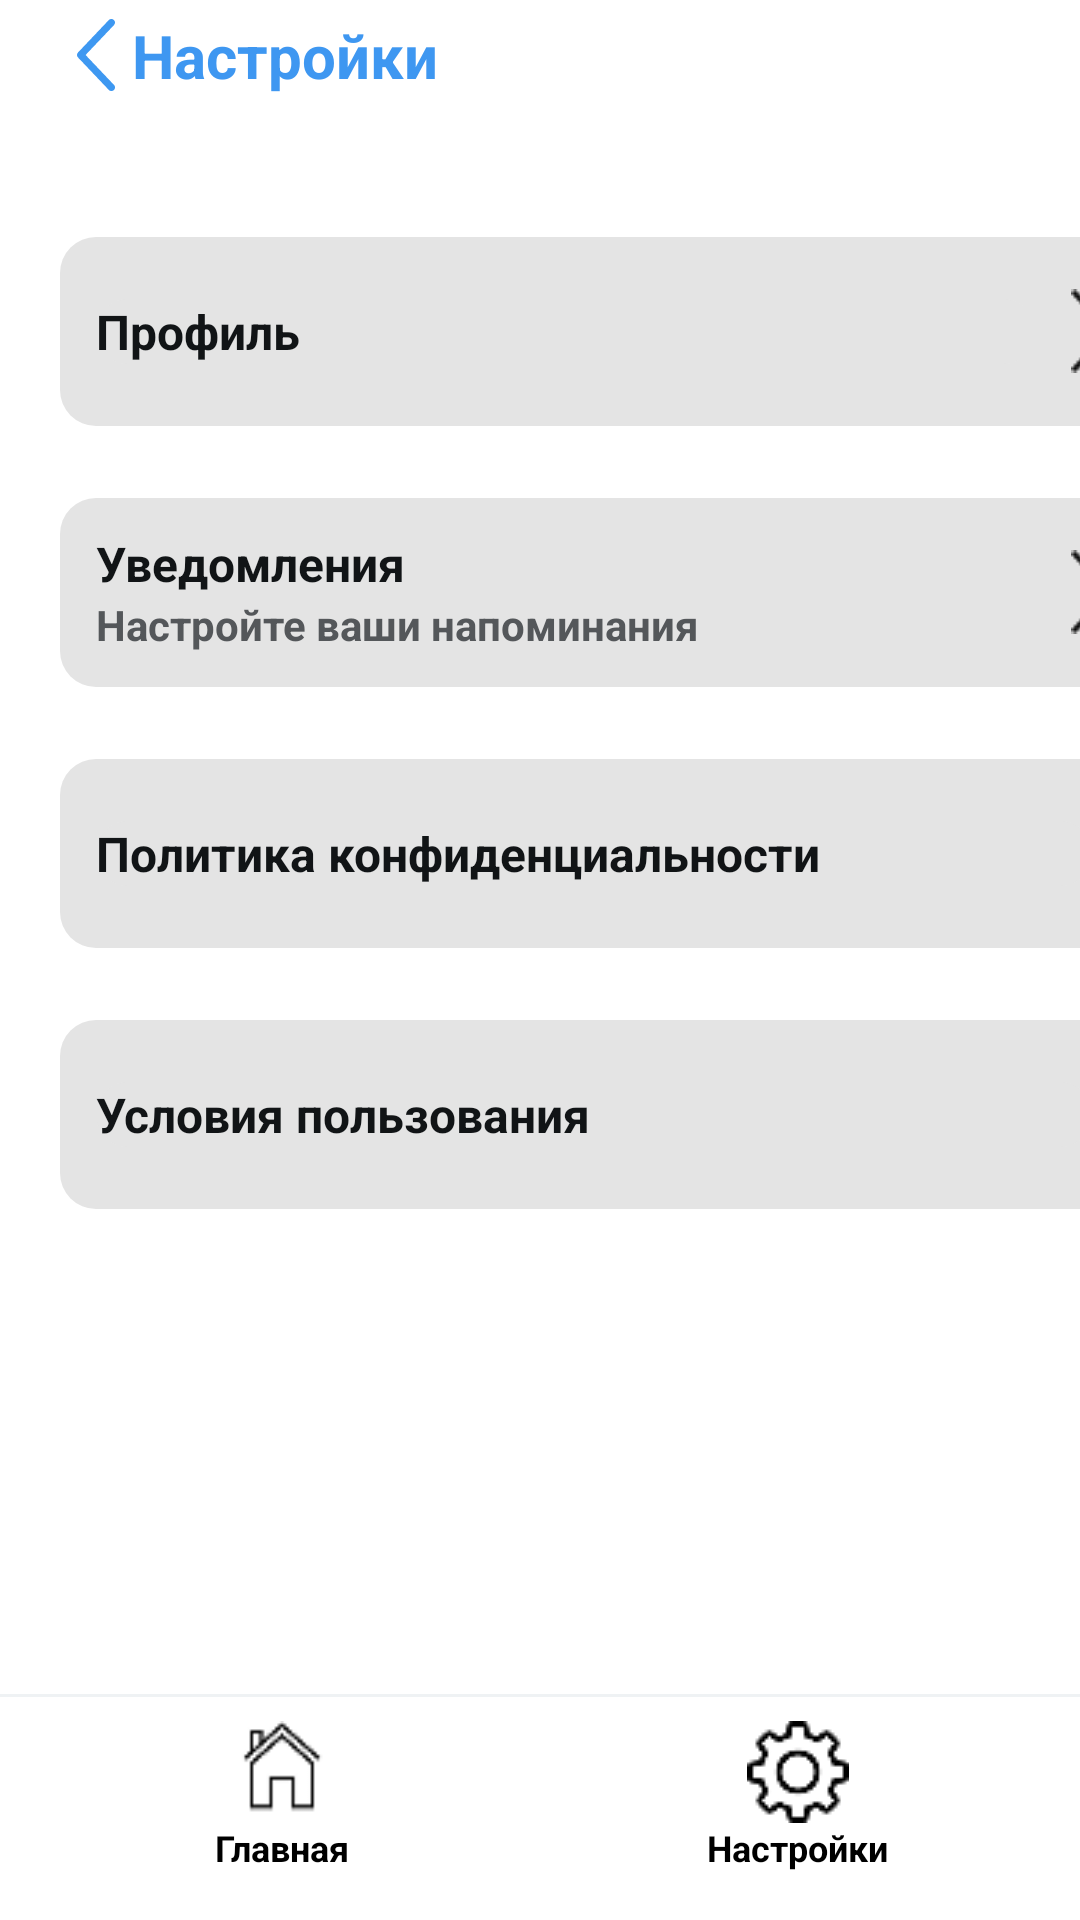

Icons on this 1080px×1920px Android screen, each with the point to tap as (x,y):
Back button settings: (96,55)
